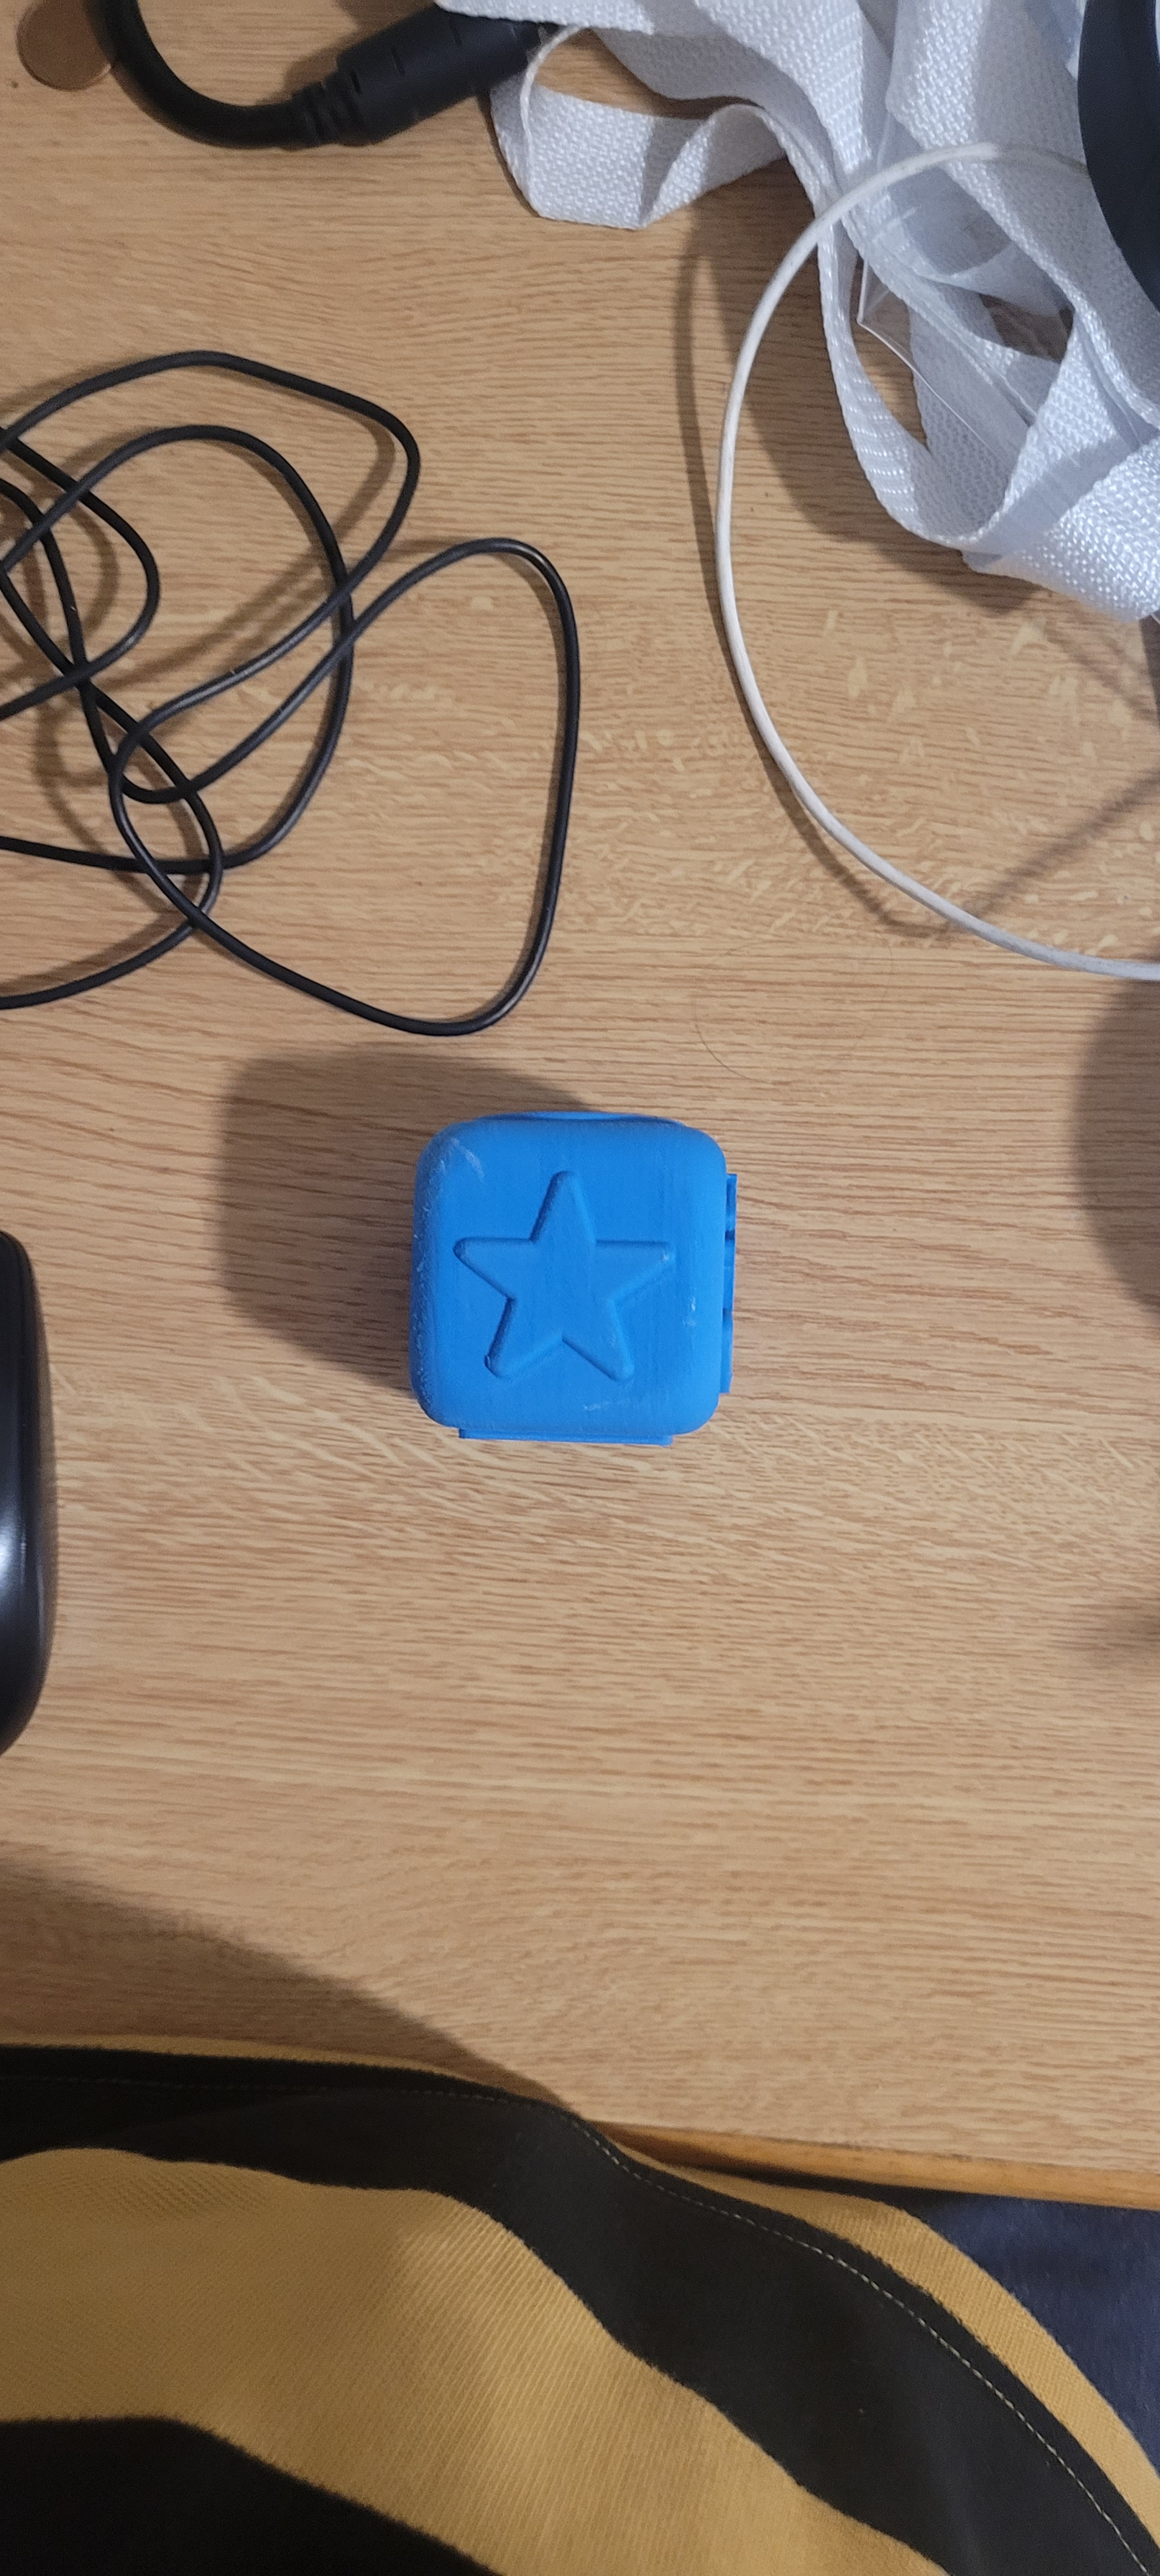Star: (393, 1119, 731, 1418)
